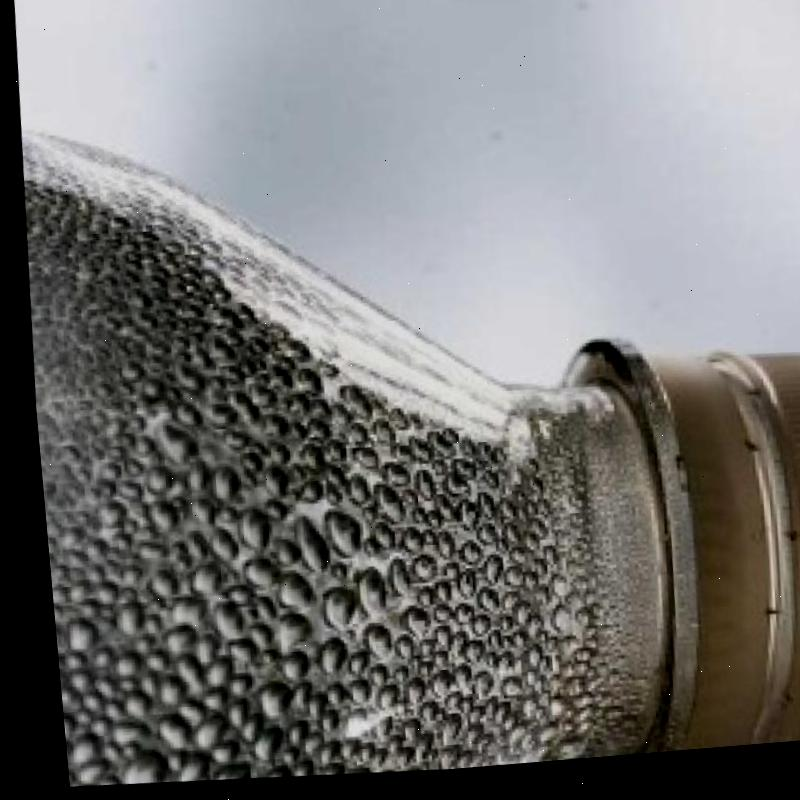botella: (9, 79, 800, 800)
